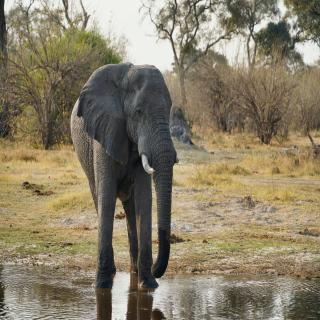Elephant: (68, 57, 186, 300)
